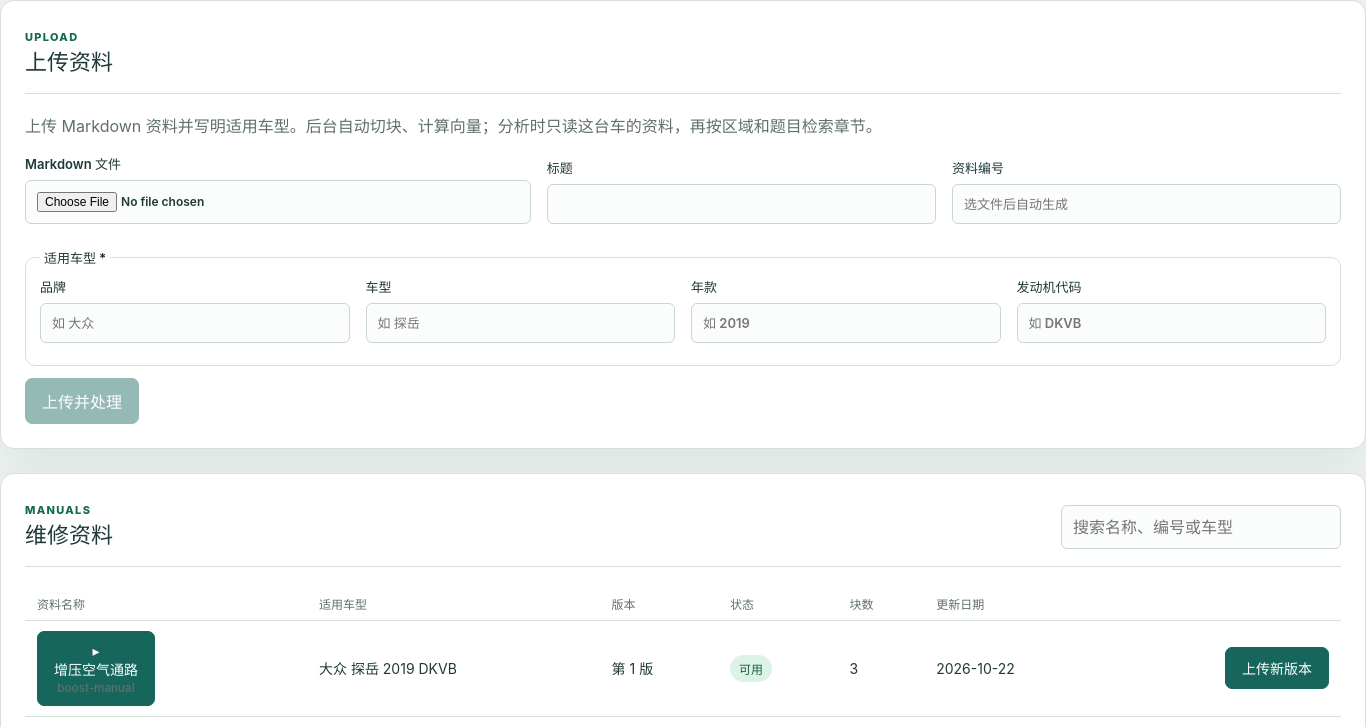
Test: ReferencesPage › filters manuals by name, number or vehicle
Type "途观" into the search field named "搜索资料" at point(1201, 527), box [1061,505,1341,549]
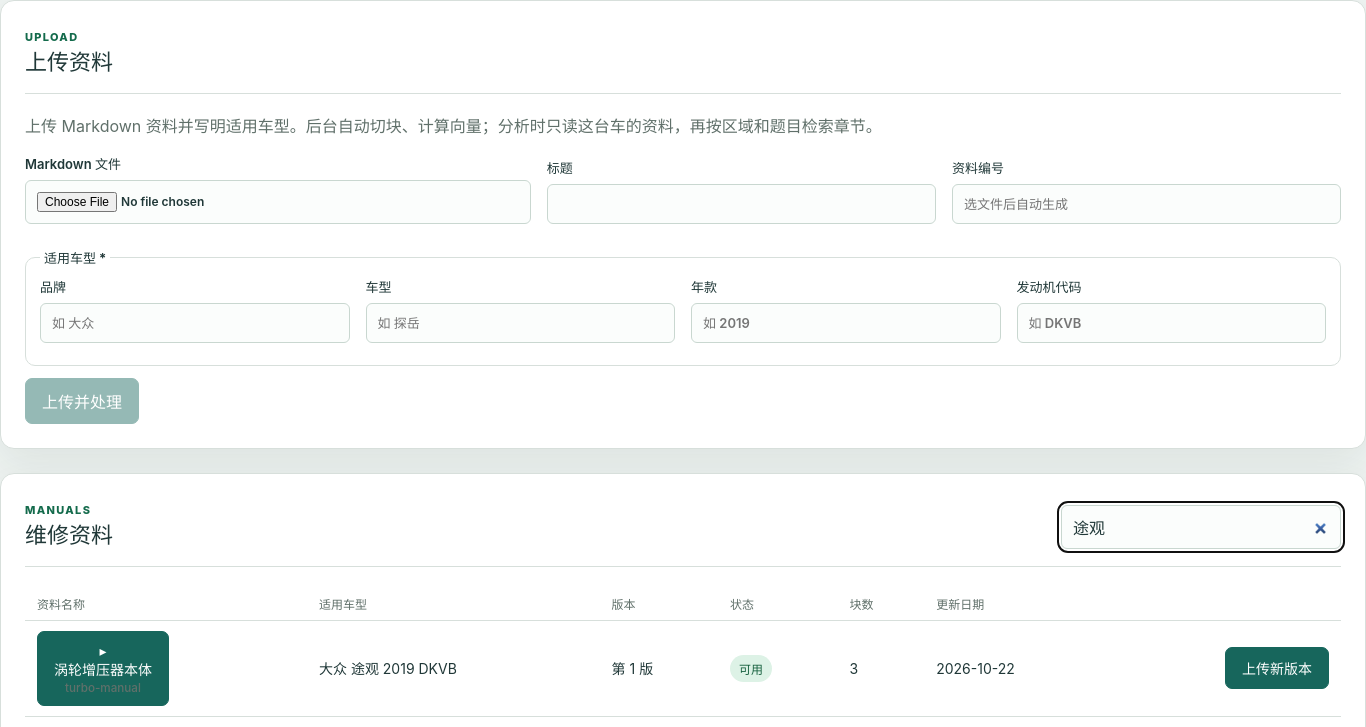
Expected: the button "▸ 涡轮增压器本体 turbo-manual" is shown, [37,631,169,706]
Expected: the button "增压空气通路" is gone
